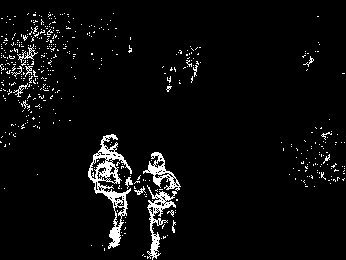person: (133, 148, 181, 259), (91, 132, 134, 250)
